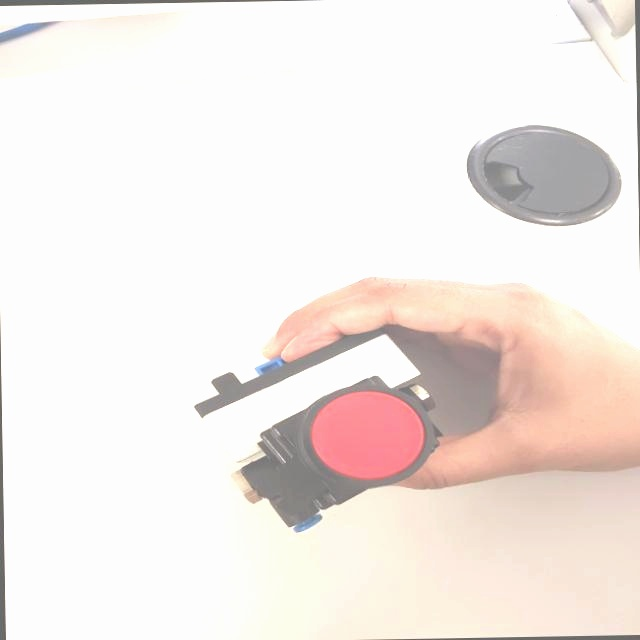push button: (184, 328, 461, 542)
